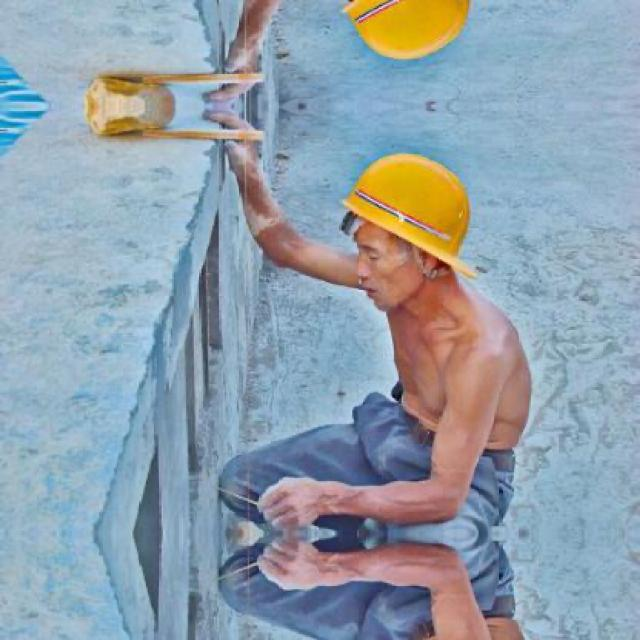helmet: (329, 130, 491, 336), (330, 0, 492, 85)
